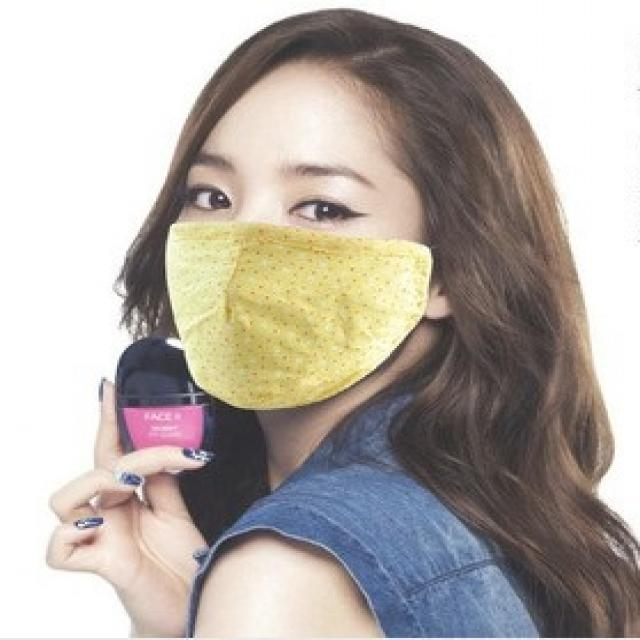mask: (168, 67, 418, 401)
